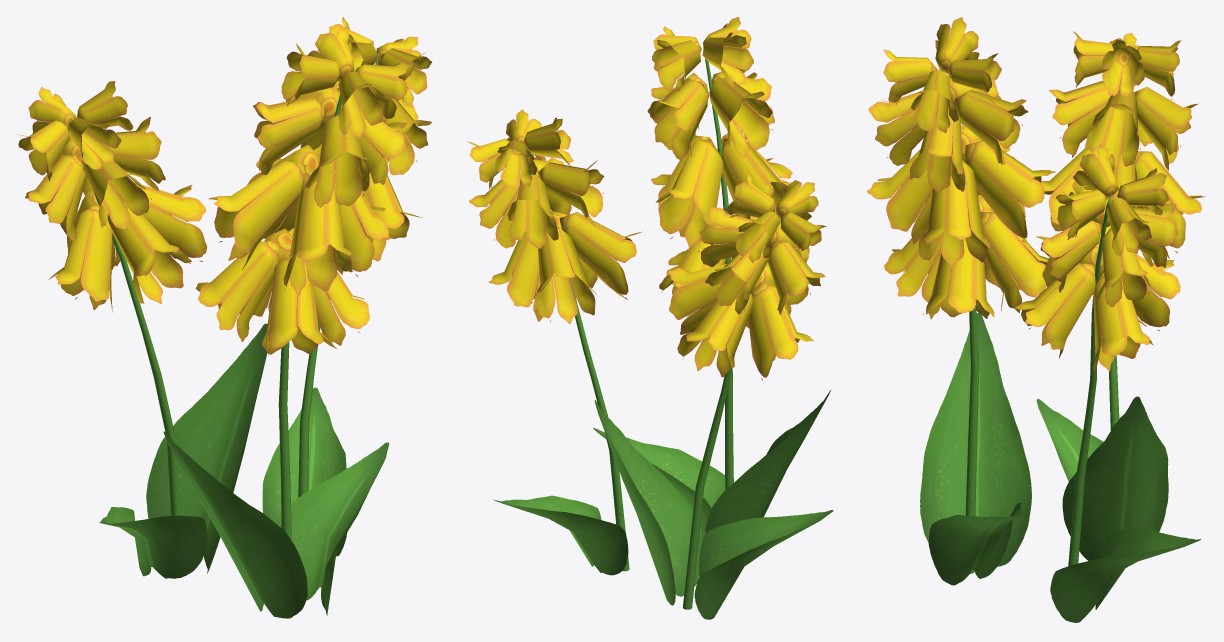
The model's file is Flower_4_Group.gltf.
The picture shows the model from 3 angles, left to right: view 1: azimuth 30°, elevation 25°; view 2: azimuth 150°, elevation 25°; view 3: azimuth 270°, elevation 25°; orthographic projection. The views are drawn at different scales.
Parts seen in each view (by area): view 1: Flower_4_Group; view 2: Flower_4_Group; view 3: Flower_4_Group.
Boxes of the visible parts, x1,y1,x2,y2 form: Flower_4_Group: (17,17,431,618); Flower_4_Group: (467,17,833,619); Flower_4_Group: (866,17,1205,622).
Bounding box in the file's own units: 1.78 × 2.49 × 1.37.
Materials: 2 (2 with a texture image).
